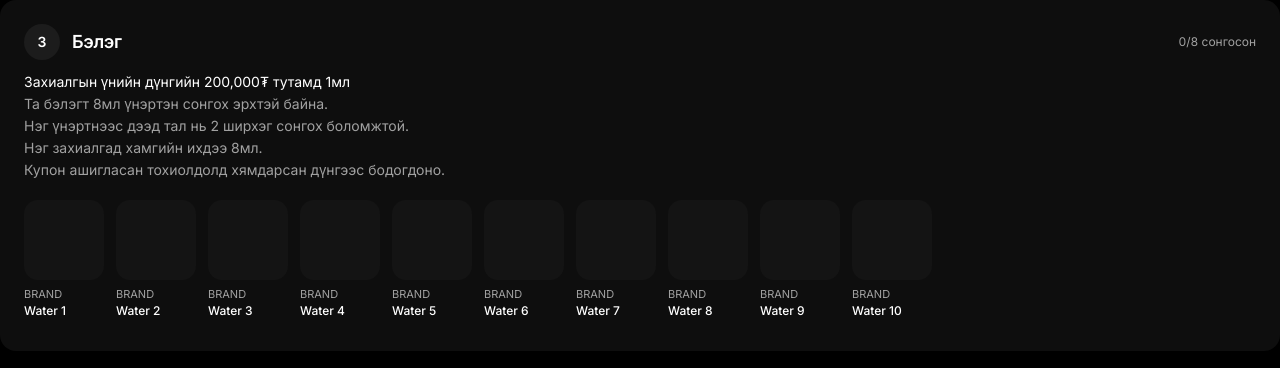
Scenario: GiftSamplePicker › 7→8 miscount (client, 2026-09 UG) › adds a second of the same water only through its + button
What coordinates should you click on to do the following:
click the button with aria-label "Water 1 — сонгох"
I would click on:
 (64, 259)
Its box is [24,200,104,318].
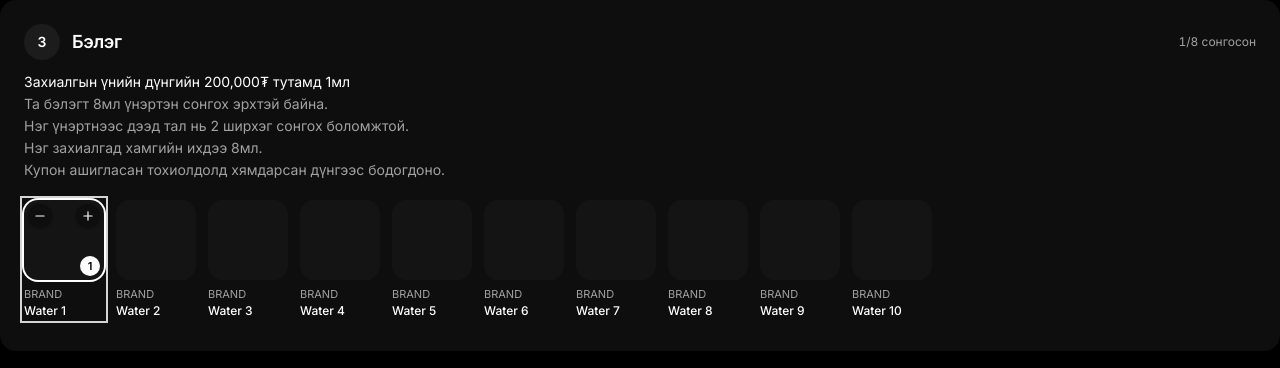
What coordinates should you click on to do the following:
click the button named "Water 1 — нэгээр нэмэх"
I would click on:
 (88, 216)
Its box is [76,204,100,228].
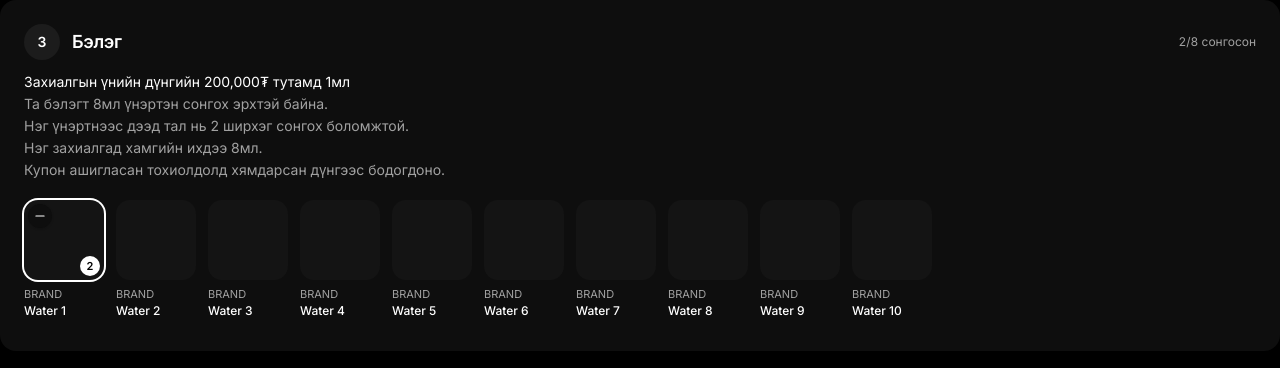
Expected: the text "2/8 сонгосон" is shown, [1178,34,1256,50]
